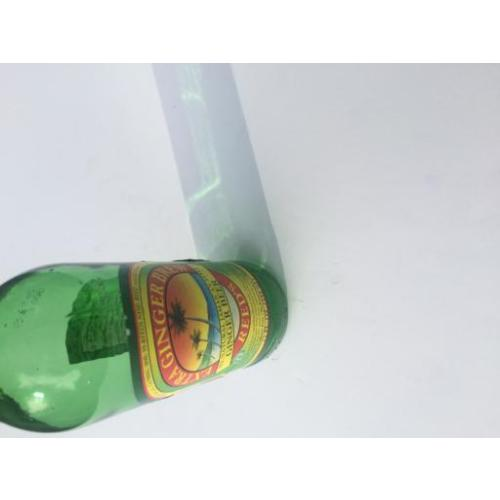glass: (0, 265, 289, 433)
